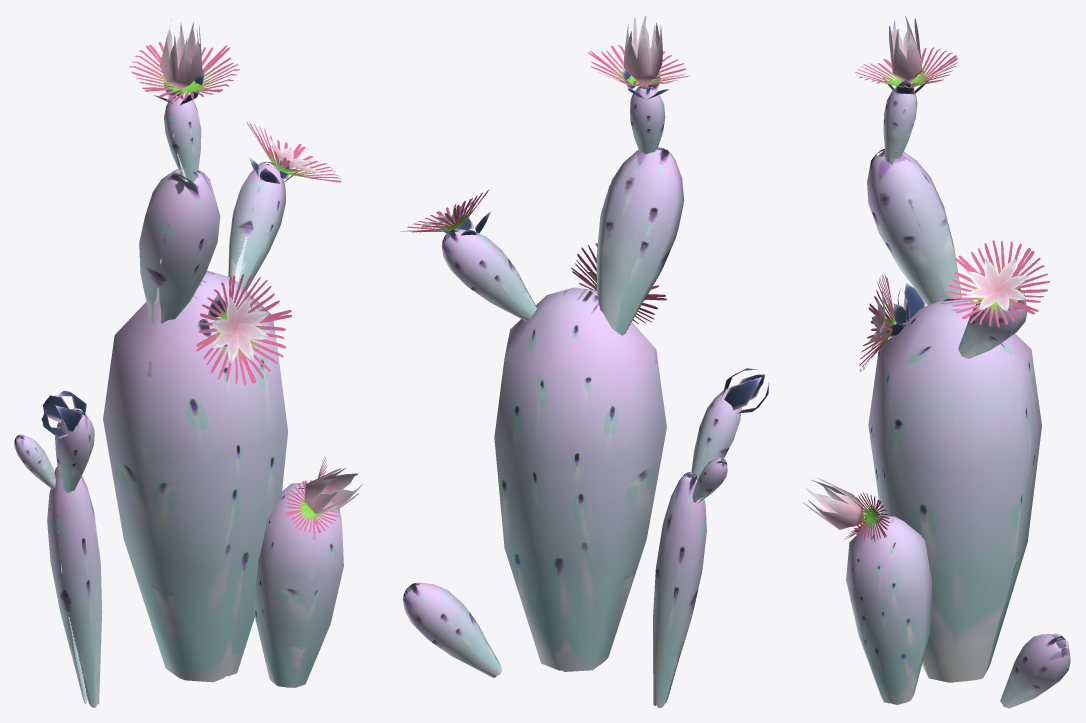
3 views of the same model, side by side, from view 1: azimuth 30°, elevation 25°; view 2: azimuth 150°, elevation 25°; view 3: azimuth 270°, elevation 25° (orthographic). The views are drawn at different scales.
Visible parts, largest first — view 1: b; view 2: b; view 3: b.
Part boxes in pixels (x1=…): b: x1=14, y1=19, x2=362, y2=707; b: x1=400, y1=16, x2=769, y2=707; b: x1=802, y1=16, x2=1070, y2=708.
Bounding box in the file's own units: 304 × 573 × 219.
